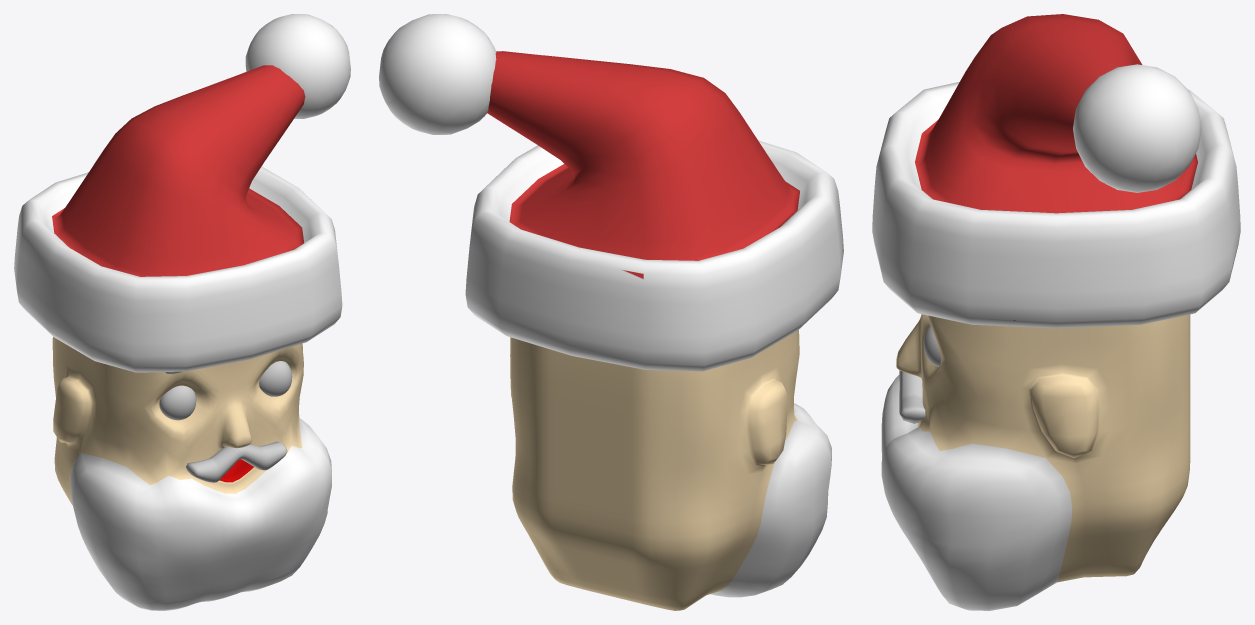
File: santaHead.fbx
3 views of the same model, side by side, from view 1: azimuth 30°, elevation 25°; view 2: azimuth 150°, elevation 25°; view 3: azimuth 270°, elevation 25° (orthographic). The views are drawn at different scales.
Parts seen in each view (by area): view 1: hat, head, mustache, eyeL, eyeR; view 2: hat, head; view 3: hat, head, mustache.
Boxes of the visible parts, x1,y1,x2,y2 form: hat: (14, 14, 350, 372); head: (52, 337, 331, 610); mustache: (186, 441, 287, 482); eyeL: (159, 385, 196, 420); eyeR: (259, 361, 292, 396); hat: (379, 14, 843, 371); head: (510, 330, 831, 610); hat: (872, 14, 1240, 328); head: (881, 314, 1190, 610); mustache: (899, 370, 925, 423).
Bounding box in the file's own units: 346 × 494 × 275.
